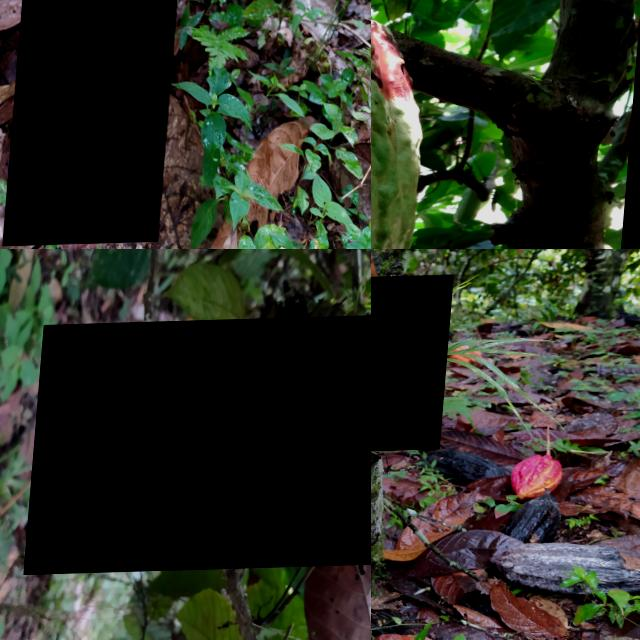Fitoftora: (12, 0, 199, 247), (371, 0, 436, 249)
Monilia: (30, 316, 371, 575), (371, 277, 457, 454)
